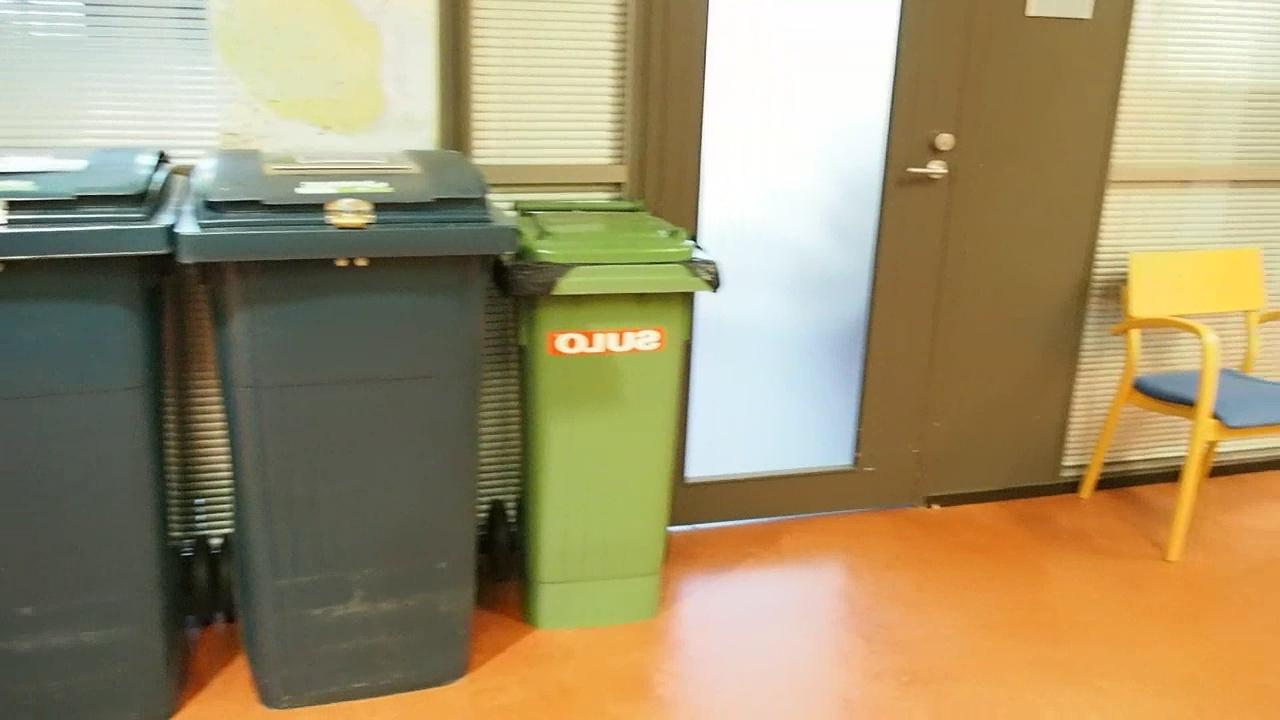chair: (1085, 229, 1264, 551)
trashbin: (182, 151, 473, 685), (502, 204, 715, 632)
